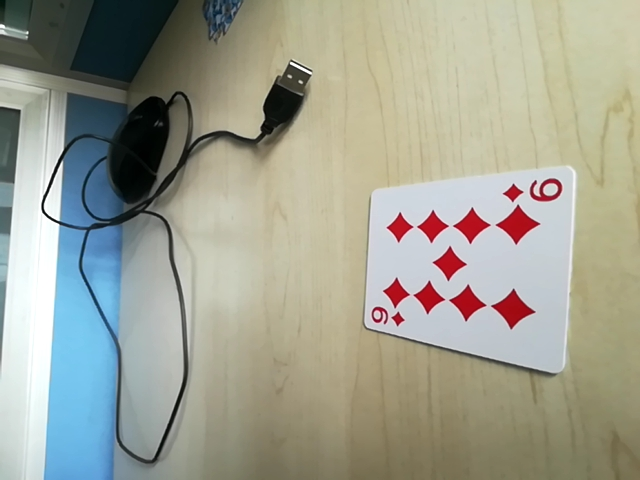fk 9: (502, 172, 565, 207), (361, 303, 408, 331)
